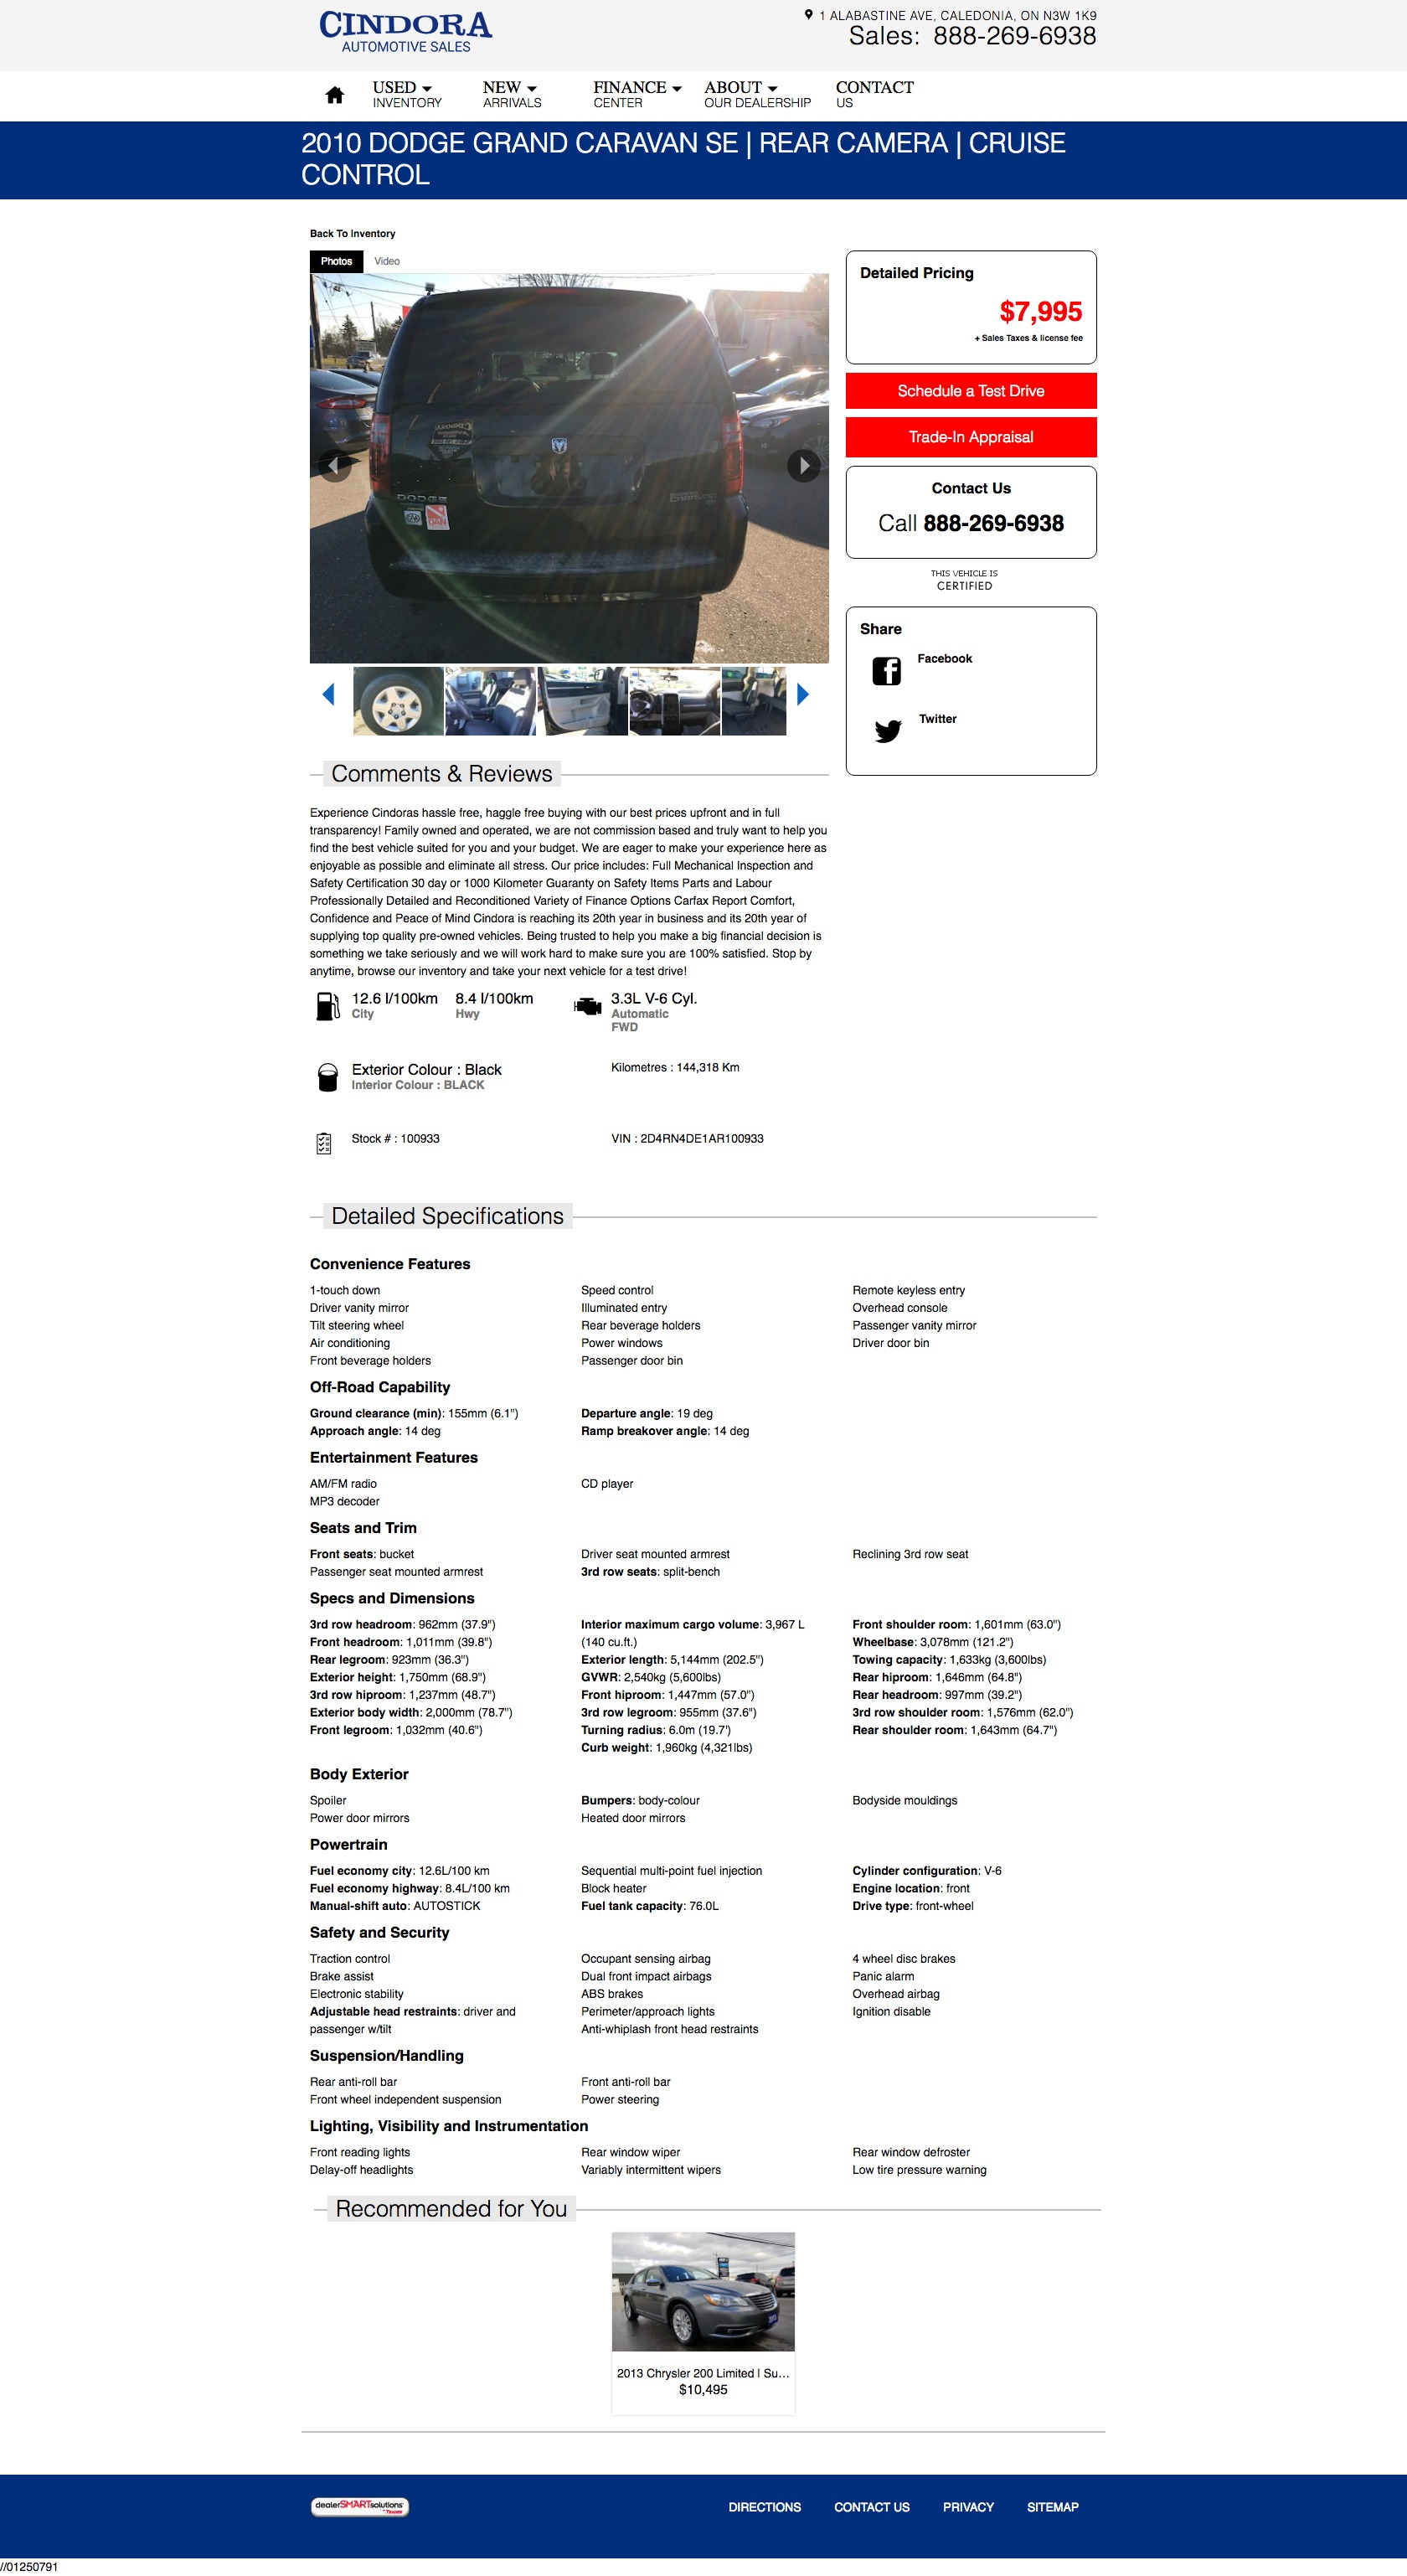car: (795, 683, 811, 709)
